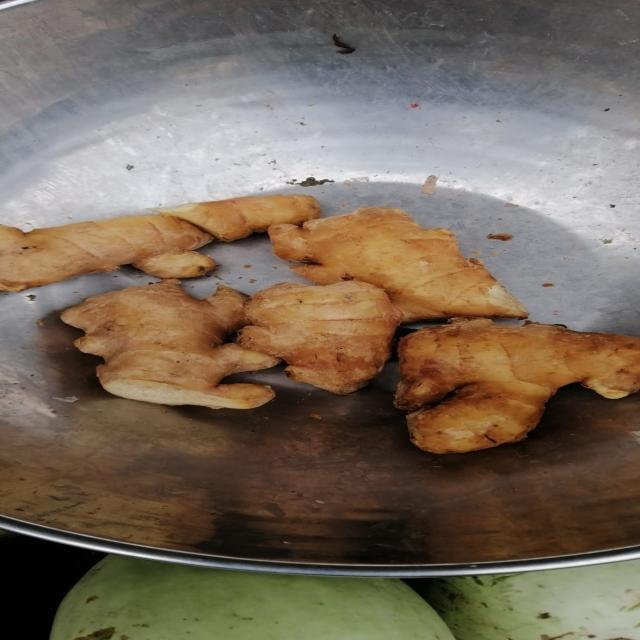ginger: (282, 216, 612, 446), (73, 291, 277, 393)
